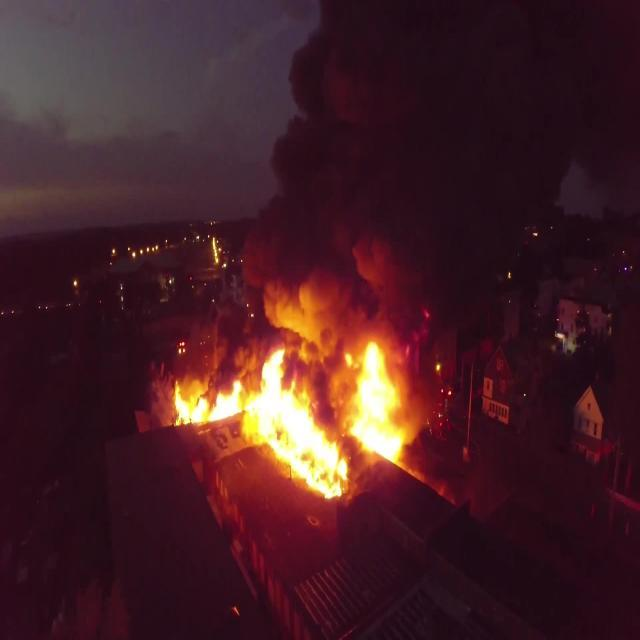Fire: (164, 304, 417, 502)
Smoke: (173, 0, 606, 479)
